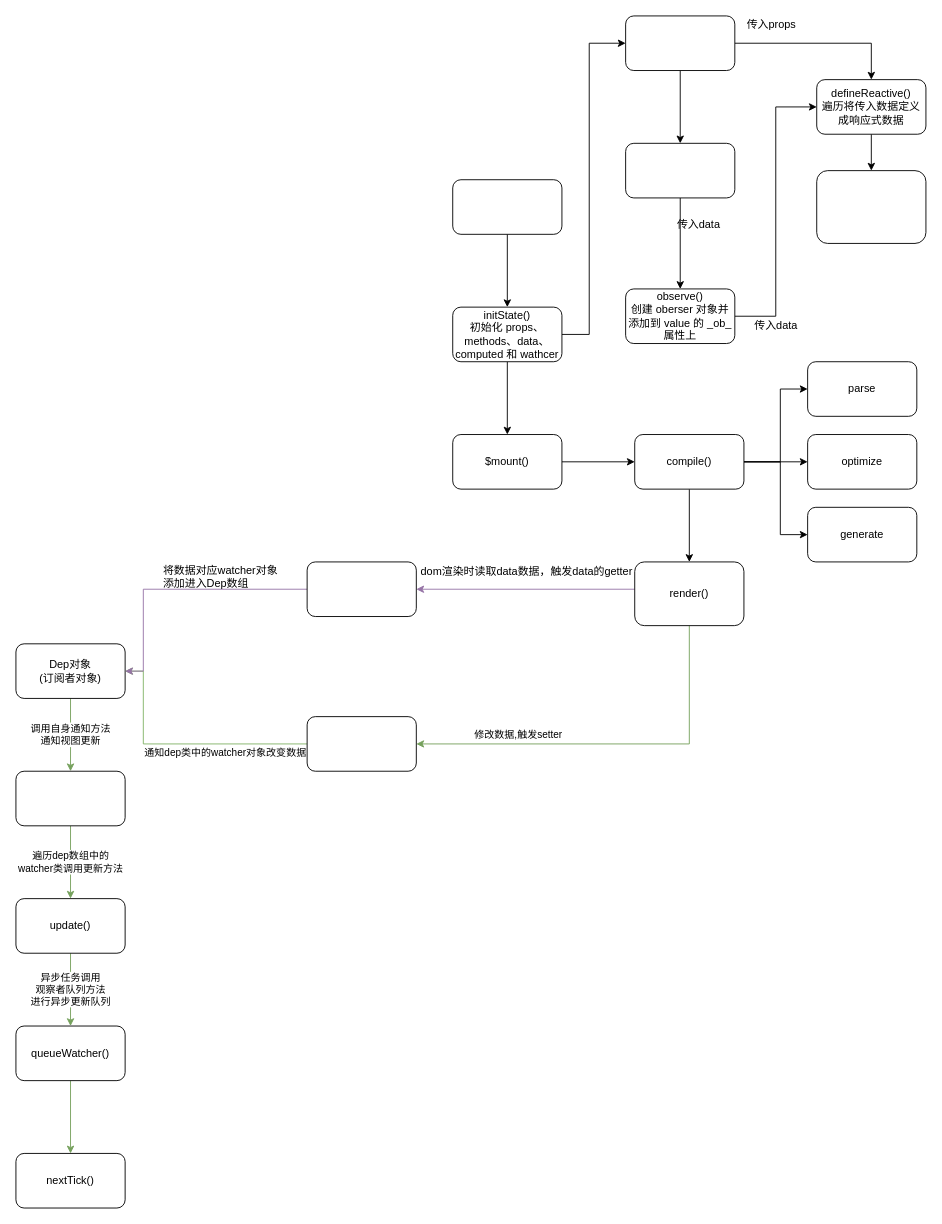
This 942x1224 diagram has some shape labels left out. Here are the shapes that lost their labels. From the top down, the box of each, then its label:
(625, 15, 735, 71): initProps()
(625, 142, 735, 198): initData
(452, 179, 562, 234): new vue()
(816, 170, 926, 243): proxy() proxy 把每一个值 vm._data.xxx 或 vm.props 都代理到 vm.xxx
(306, 561, 416, 617): set()
(306, 716, 416, 771): get()
(15, 770, 125, 826): notify()
